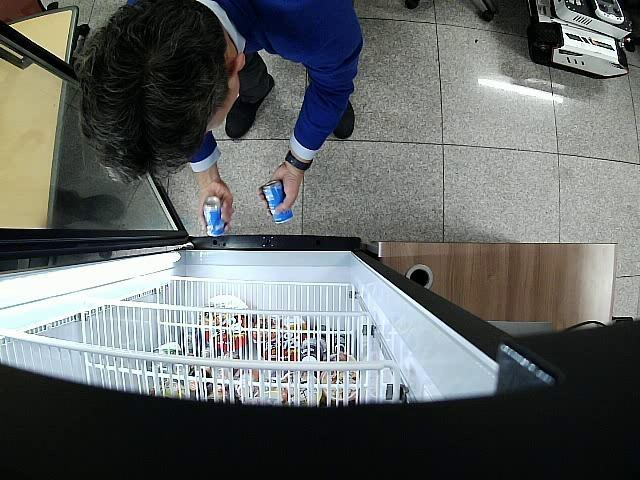15_letsbe: (263, 180, 292, 224), (204, 196, 226, 237)
